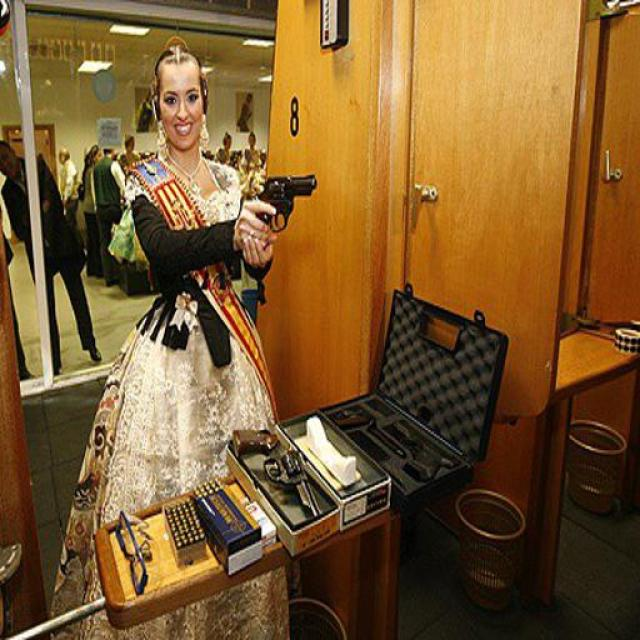pistol: (237, 169, 321, 275)
